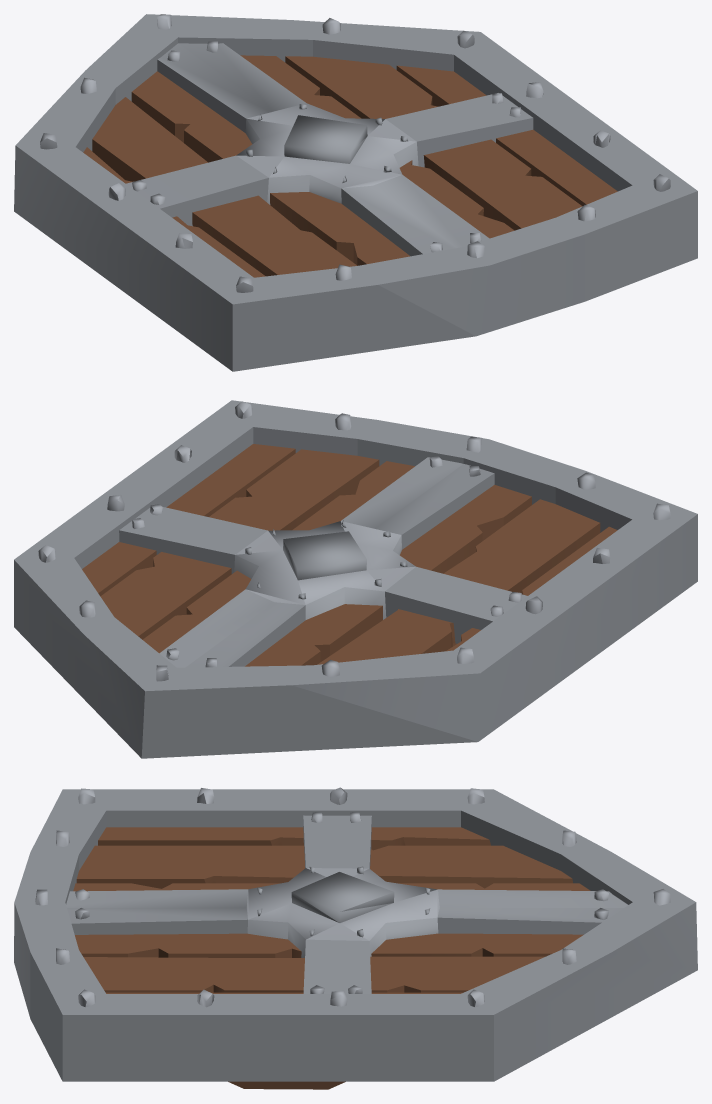
File: shield.glb
3 views of the same model, one above another, from view 1: azimuth 30°, elevation 25°; view 2: azimuth 150°, elevation 25°; view 3: azimuth 270°, elevation 25° (orthographic).
Parts seen in each view (by area): view 1: Shield_Heater_Cube.009; view 2: Shield_Heater_Cube.009; view 3: Shield_Heater_Cube.009.
Boxes of the visible parts, x1,y1,x2,y2 form: Shield_Heater_Cube.009: (14, 14, 697, 371); Shield_Heater_Cube.009: (14, 400, 697, 758); Shield_Heater_Cube.009: (14, 787, 697, 1089).
Bounding box in the file's own units: 0.5013 × 0.1485 × 0.6429.
